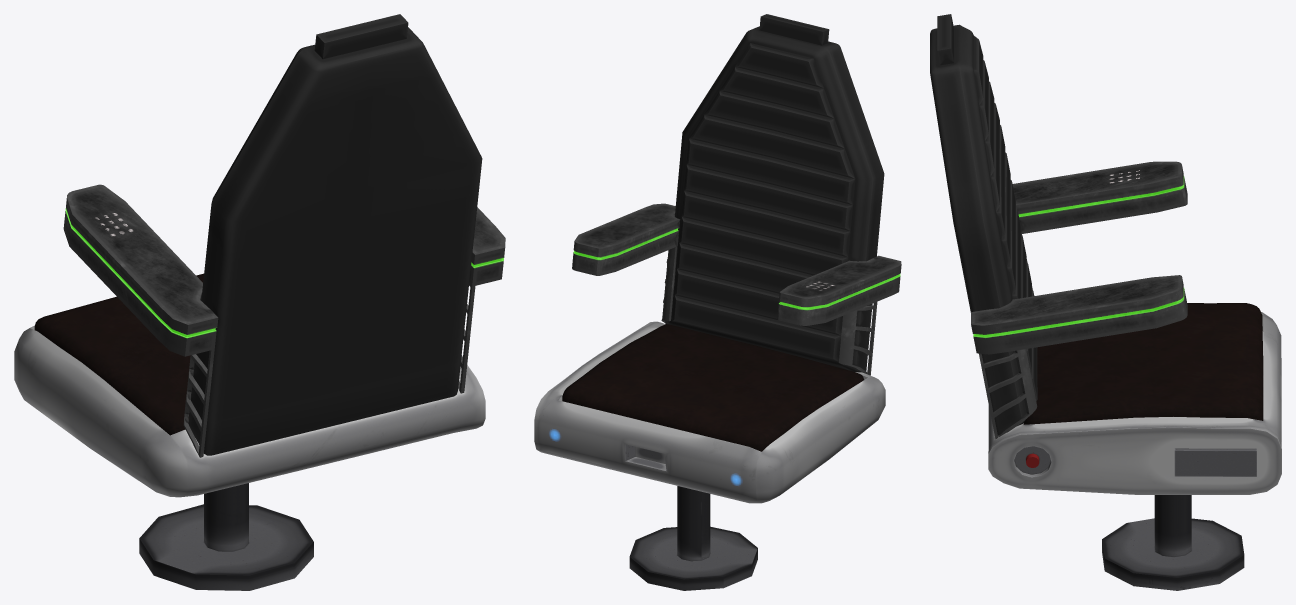
3 views of the same model, side by side, from view 1: azimuth 30°, elevation 25°; view 2: azimuth 150°, elevation 25°; view 3: azimuth 270°, elevation 25° (orthographic). The views are drawn at different scales.
Visible parts, largest first — view 1: Cube.050, Cube.019, Cube.052, Cube.049, Cube.059; view 2: Cube.050, Cube.019, Cube.049, Cube.052, Cube.059; view 3: Cube.019, Cube.049, Cube.050, Cube.059, Cube.052.
Boxes of the visible parts, bbox=[...] form: Cube.050: bbox=[188, 14, 482, 455]; Cube.019: bbox=[14, 325, 485, 590]; Cube.052: bbox=[63, 184, 218, 457]; Cube.049: bbox=[34, 273, 203, 435]; Cube.059: bbox=[458, 207, 505, 393]; Cube.050: bbox=[665, 14, 884, 372]; Cube.019: bbox=[534, 321, 885, 590]; Cube.049: bbox=[562, 324, 863, 451]; Cube.052: bbox=[777, 255, 901, 375]; Cube.059: bbox=[572, 203, 680, 322]; Cube.019: bbox=[988, 312, 1281, 590]; Cube.049: bbox=[1023, 303, 1263, 424]; Cube.050: bbox=[930, 14, 1037, 435]; Cube.059: bbox=[971, 275, 1187, 439]; Cube.052: bbox=[1012, 161, 1187, 290].
Bounding box in the file's own units: 1.05 × 1.89 × 1.14.
3 materials, 3 textured.
